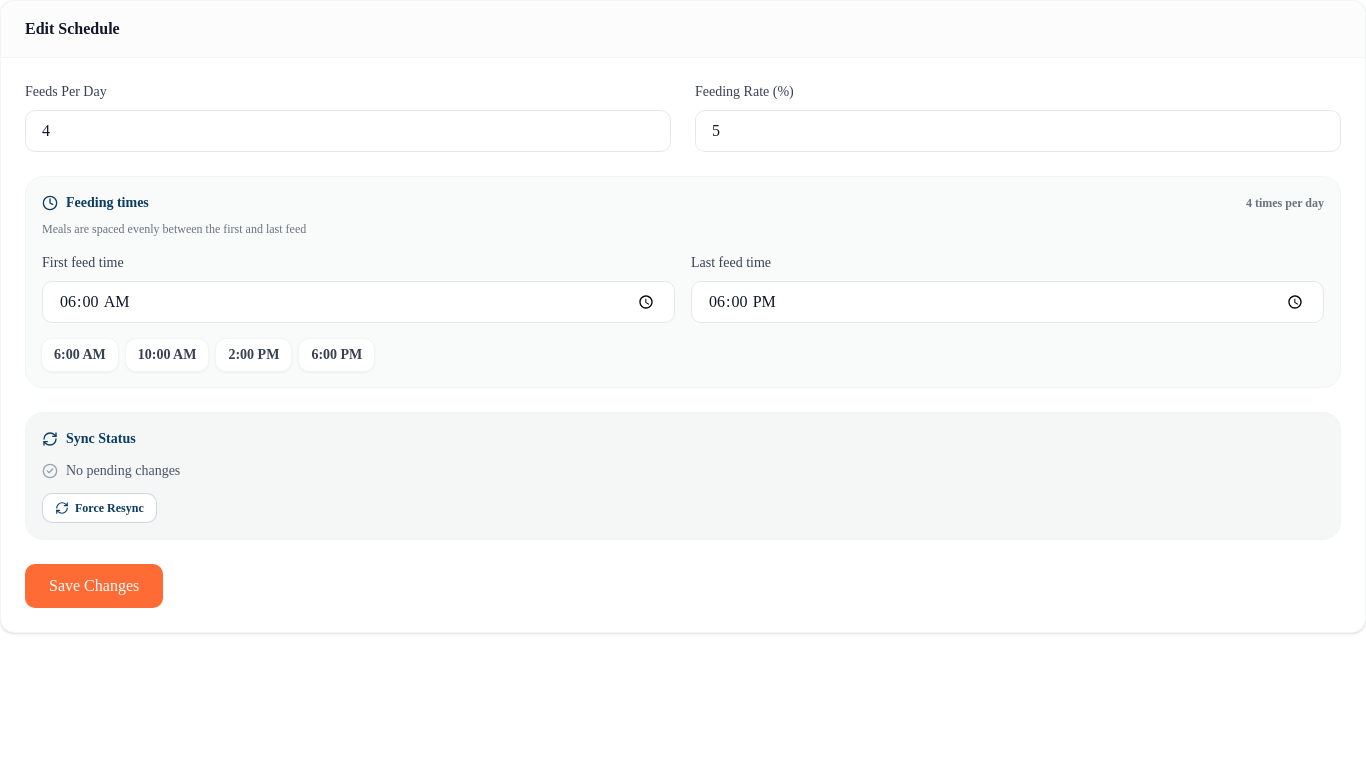
Test: ScheduleEditor feeding window validation (#763) › rejects a zero-length window with more than one feed inline
The image size is (1366, 768).
Step 1. Replace the text in the time field labelled "Last feed time" with "06:00" → point(1008, 302), box [691,281,1324,323]
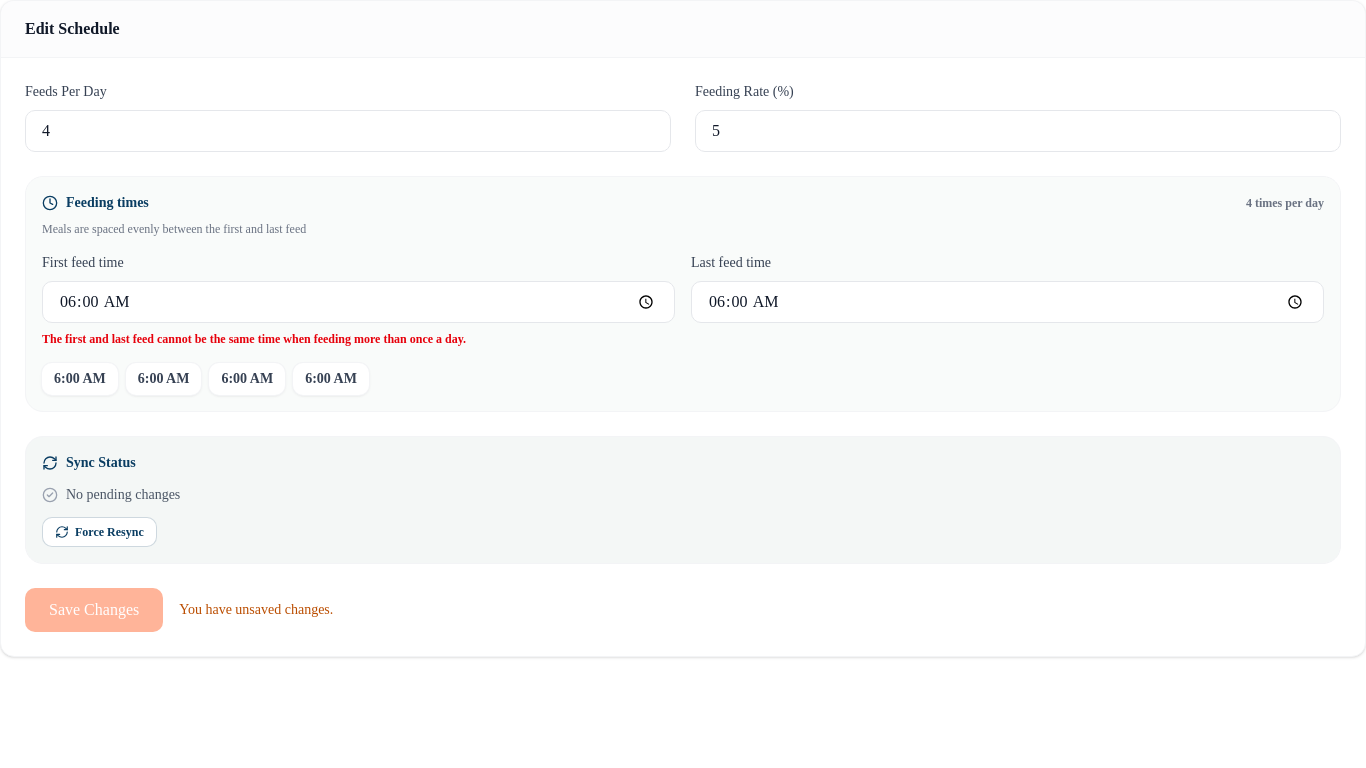
expect the message shows "The first and last feed cannot be the same time when feeding more than once a day.": met, box [42,332,466,346]
expect the button "Save Changes" is disabled: met, box [25,588,163,632]
